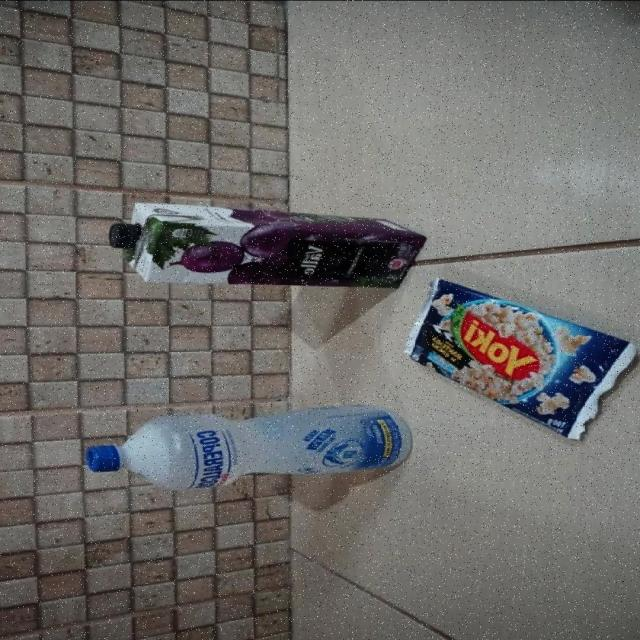AlcoholBottle: (84, 407, 407, 488)
Popcorn: (408, 279, 636, 436)
